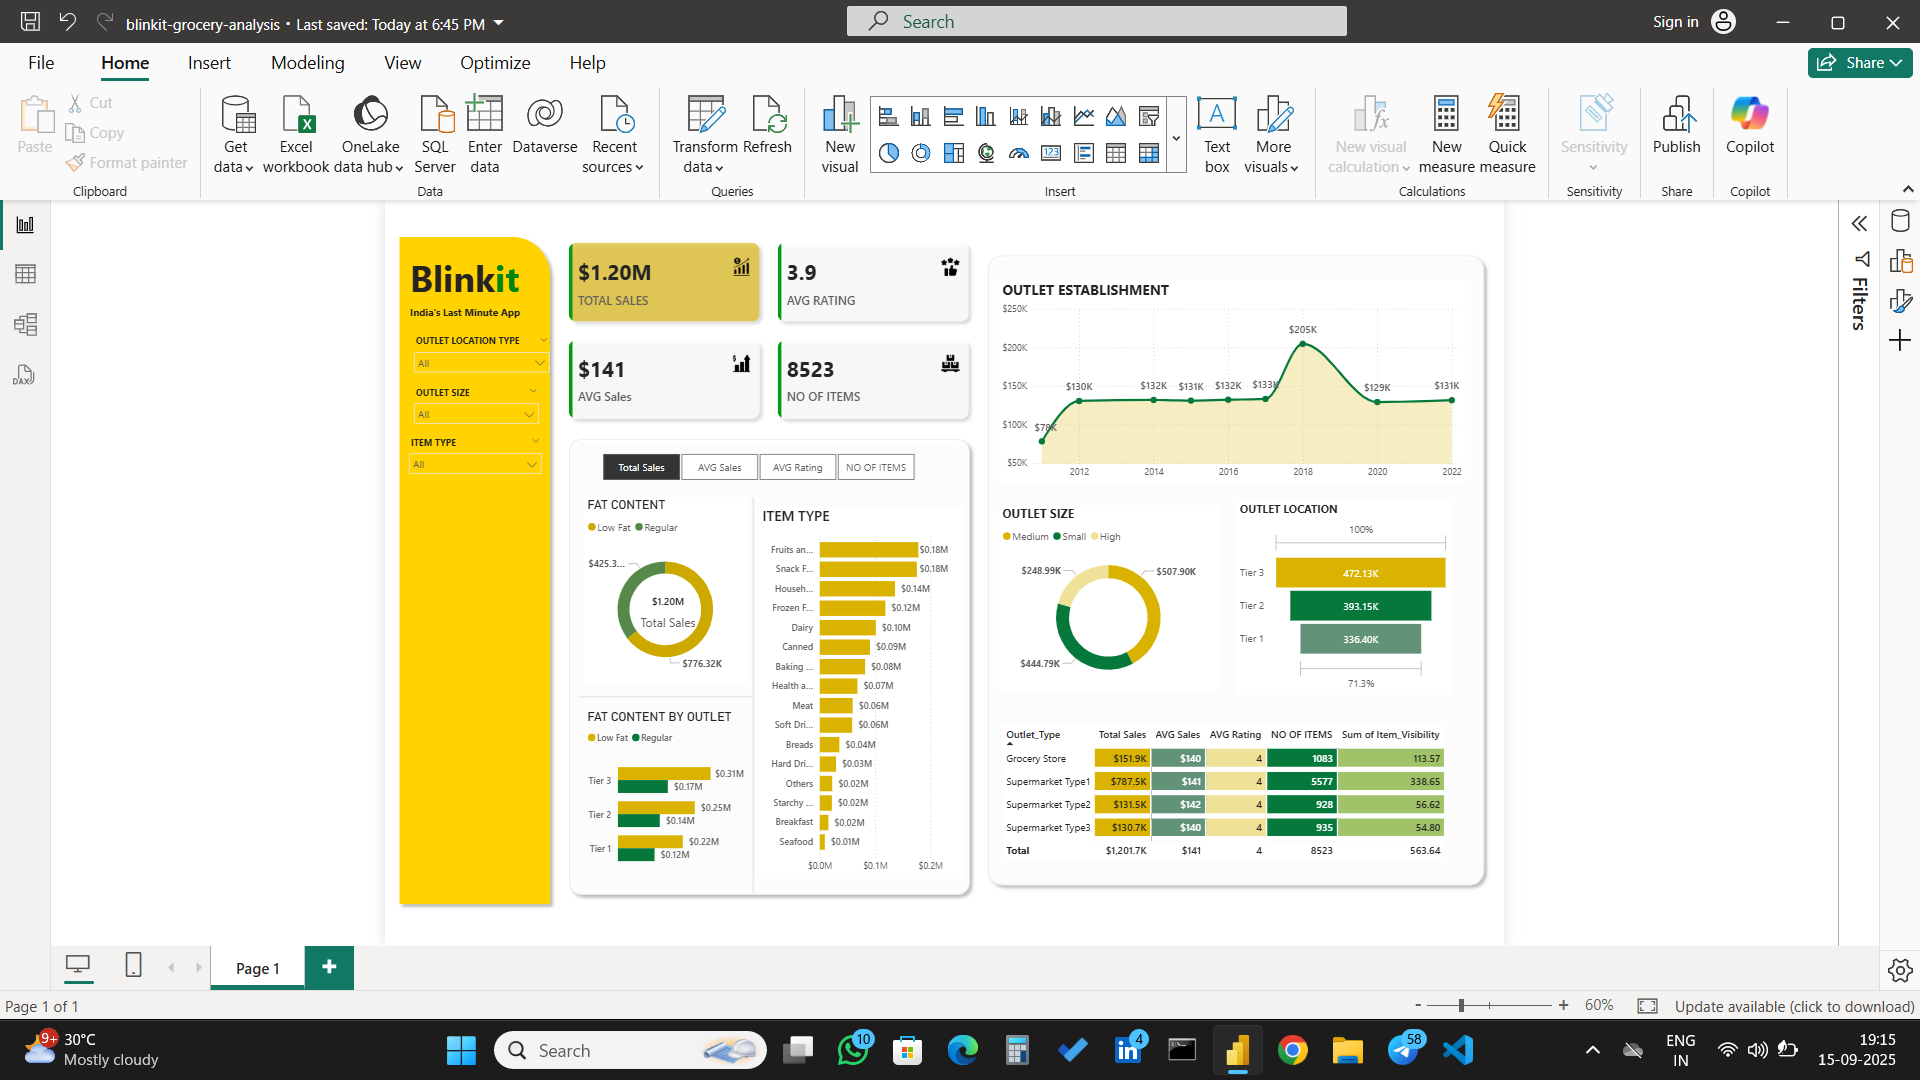

This screenshot's page, from the dashboard's own definition file:
{"tool":"powerbi","page":{"name":"Page 1","canvas":[1500,1000],"ordinal":0},"visuals":[{"type":"shape","box":[10.2,40.8,220.1,912.8],"z":0},{"type":"textbox","box":[28,66.9,166.4,79.3],"z":1000},{"type":"textbox","box":[28,135.3,186.7,34.2],"z":2000},{"type":"cardVisual","fields":{"Data":["BlinkIT Grocery Data.Total Sales","BlinkIT Grocery Data.AVG Rating","BlinkIT Grocery Data.AVG Sales","BlinkIT Grocery Data.NO OF ITEMS"]},"box":[229.7,40.9,570.4,270.6],"z":3000},{"type":"shape","box":[237.5,311.5,554.8,628.8],"z":4000},{"type":"donutChart","title":"FAT CONTENT","fields":{"Y":["BlinkIT Grocery Data.Total Sales"],"Category":["BlinkIT Grocery Data.Item_Fat_Content"]},"box":[266.7,399.1,219,251.1],"z":5000},{"type":"slicer","fields":{"Values":["Metrics.Metrics"]},"box":[266.7,332.9,467.2,48.7],"z":6000},{"type":"cardVisual","fields":{"Data":["BlinkIT Grocery Data.Total Sales"]},"box":[323.1,510,112.9,85.7],"z":7000},{"type":"clusteredBarChart","title":"FAT CONTENT BY OUTLET","fields":{"Y":["BlinkIT Grocery Data.Total Sales"],"Category":["BlinkIT Grocery Data.Outlet_Location_Type"],"Series":["BlinkIT Grocery Data.Item_Fat_Content"]},"box":[266.7,681.3,220,229.7],"z":8000},{"type":"shape","box":[258.9,650.2,235.5,31.1],"z":9000},{"type":"shape","box":[486.7,399.1,15.6,529.5],"z":10000},{"type":"barChart","title":"ITEM TYPE","fields":{"Y":["BlinkIT Grocery Data.Total Sales"],"Category":["BlinkIT Grocery Data.Item_Type"]},"box":[500.3,410.7,276.4,500.3],"z":11000},{"type":"shape","box":[799.7,65.9,683.1,862.3],"z":12000},{"type":"lineChart","title":"OUTLET ESTABLISHMENT","fields":{"Category":["BlinkIT Grocery Data.Outlet_Establishment_Year"],"Y":["BlinkIT Grocery Data.Total Sales"]},"box":[823.4,106.5,625.6,275.6],"z":13000},{"type":"donutChart","title":"OUTLET SIZE","fields":{"Y":["BlinkIT Grocery Data.Total Sales"],"Category":["BlinkIT Grocery Data.Outlet_Size"]},"box":[823.4,409.2,294.2,250.2],"z":14000},{"type":"funnel","title":"OUTLET LOCATION","fields":{"Y":["Sum(BlinkIT Grocery Data.Sales)"],"Category":["BlinkIT Grocery Data.Outlet_Location_Type"]},"box":[1141.2,404.1,290.8,260.4],"z":15000},{"type":"pivotTable","fields":{"Rows":["BlinkIT Grocery Data.Outlet_Type"],"Values":["BlinkIT Grocery Data.Total Sales","BlinkIT Grocery Data.AVG Sales","BlinkIT Grocery Data.AVG Rating","BlinkIT Grocery Data.NO OF ITEMS","Sum(BlinkIT Grocery Data.Item_Visibility)"]},"box":[823.4,698.3,625.6,213],"z":16000},{"type":"slicer","fields":{"Values":["BlinkIT Grocery Data.Outlet_Location_Type"]},"box":[28.5,175.2,201.7,69.3],"z":16001},{"type":"slicer","fields":{"Values":["BlinkIT Grocery Data.Outlet_Size"]},"box":[28.5,244.5,187.5,87.6],"z":16002},{"type":"slicer","fields":{"Values":["BlinkIT Grocery Data.Item_Type"]},"box":[22.4,311.7,197.6,87.6],"z":16003}]}

Visuals, with their boxes on the page's 1500x1000 design canvas (x1, y1, x2, y2). These are canvas units, not pixel positions in the 1920x1080 screenshot, which may show the page scaled, cropped or inside an application window:
shape: x1=10, y1=41, x2=230, y2=954
textbox: x1=28, y1=67, x2=194, y2=146
textbox: x1=28, y1=135, x2=215, y2=170
cardVisual - BlinkIT Grocery Data.Total Sales x BlinkIT Grocery Data.AVG Rating: x1=230, y1=41, x2=800, y2=312
shape: x1=238, y1=312, x2=792, y2=940
"FAT CONTENT" donutChart: x1=267, y1=399, x2=486, y2=650
slicer - Metrics.Metrics: x1=267, y1=333, x2=734, y2=382
cardVisual - BlinkIT Grocery Data.Total Sales: x1=323, y1=510, x2=436, y2=596
"FAT CONTENT BY OUTLET" clusteredBarChart: x1=267, y1=681, x2=487, y2=911
shape: x1=259, y1=650, x2=494, y2=681
shape: x1=487, y1=399, x2=502, y2=929
"ITEM TYPE" barChart: x1=500, y1=411, x2=777, y2=911
shape: x1=800, y1=66, x2=1483, y2=928
"OUTLET ESTABLISHMENT" lineChart: x1=823, y1=106, x2=1449, y2=382
"OUTLET SIZE" donutChart: x1=823, y1=409, x2=1118, y2=659
"OUTLET LOCATION" funnel: x1=1141, y1=404, x2=1432, y2=664
pivotTable - BlinkIT Grocery Data.Outlet_Type x BlinkIT Grocery Data.Total Sales: x1=823, y1=698, x2=1449, y2=911
slicer - BlinkIT Grocery Data.Outlet_Location_Type: x1=28, y1=175, x2=230, y2=244
slicer - BlinkIT Grocery Data.Outlet_Size: x1=28, y1=244, x2=216, y2=332
slicer - BlinkIT Grocery Data.Item_Type: x1=22, y1=312, x2=220, y2=399
